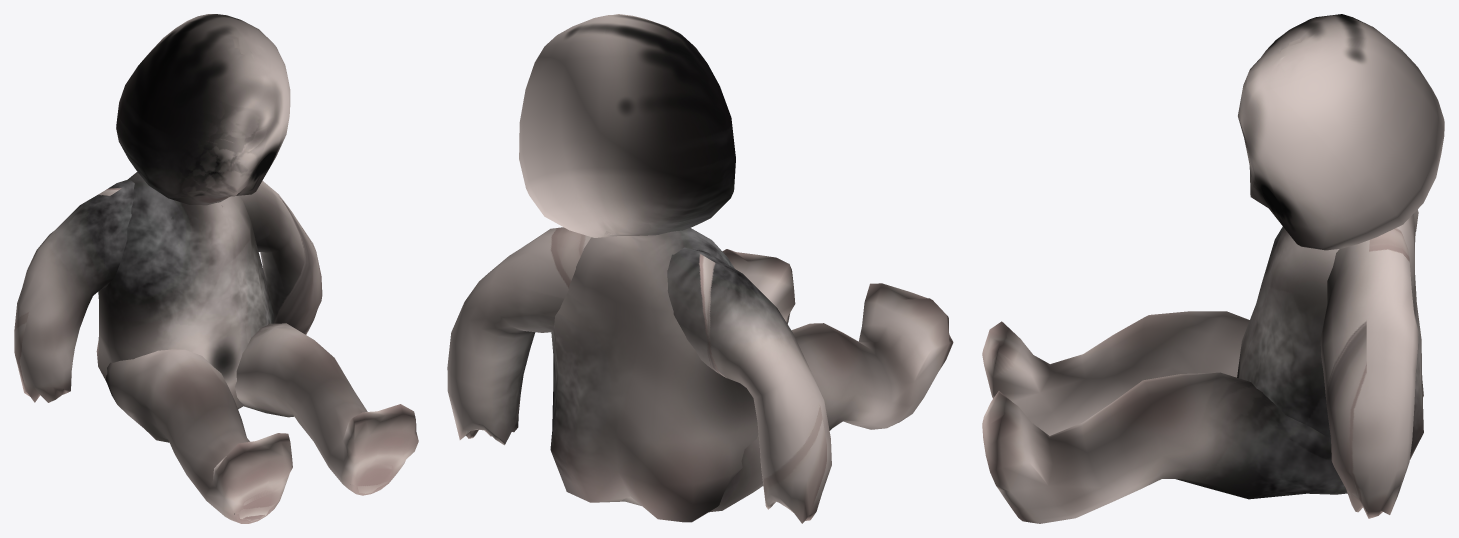
Rendered from Doll_Sit.FBX.
3 views of the same model, side by side, from view 1: azimuth 30°, elevation 25°; view 2: azimuth 150°, elevation 25°; view 3: azimuth 270°, elevation 25° (orthographic). The views are drawn at different scales.
Visible parts, largest first — view 1: Doll_sit; view 2: Doll_sit; view 3: Doll_sit.
Part boxes in pixels (box(x1,y1,x2,y2)): Doll_sit: box(14, 14, 418, 523); Doll_sit: box(447, 14, 953, 523); Doll_sit: box(982, 14, 1444, 523).
Bounding box in the file's own units: 103 × 129 × 113.
